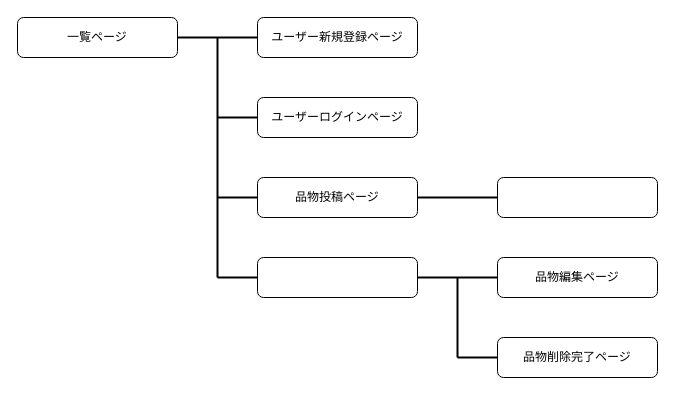
Image size: 675x395. Some labels were removed from this diagram. The centre of each missing label's shape, as x and y in pixels:
品物投稿完了ページ: the point at 577,197
品物詳細ページ: the point at 337,277
